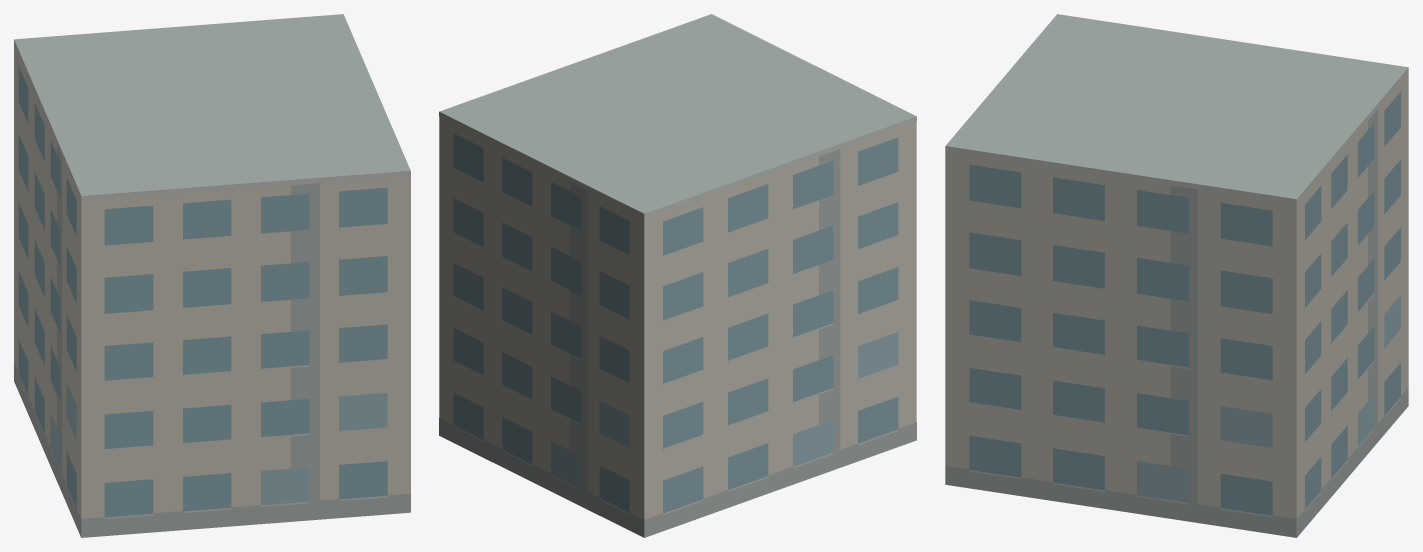
Rendered from residential-d8156118-1fda-41c1-a3c9-73ed5b86f841.glb.
The picture shows the model from 3 angles, left to right: view 1: azimuth 30°, elevation 25°; view 2: azimuth 150°, elevation 25°; view 3: azimuth 270°, elevation 25°; orthographic projection. The views are drawn at different scales.
Visible parts, largest first — view 1: residential-d8156118-1fda-41c1-a3c9-73ed5b86f841.tmp; view 2: residential-d8156118-1fda-41c1-a3c9-73ed5b86f841.tmp; view 3: residential-d8156118-1fda-41c1-a3c9-73ed5b86f841.tmp.
Part boxes in pixels (x1,y1,x2,y2): residential-d8156118-1fda-41c1-a3c9-73ed5b86f841.tmp: (14,14,410,537); residential-d8156118-1fda-41c1-a3c9-73ed5b86f841.tmp: (439,14,916,537); residential-d8156118-1fda-41c1-a3c9-73ed5b86f841.tmp: (945,14,1408,537).
Size of the model in its own units: 17.89 by 15.25 by 18.91.
